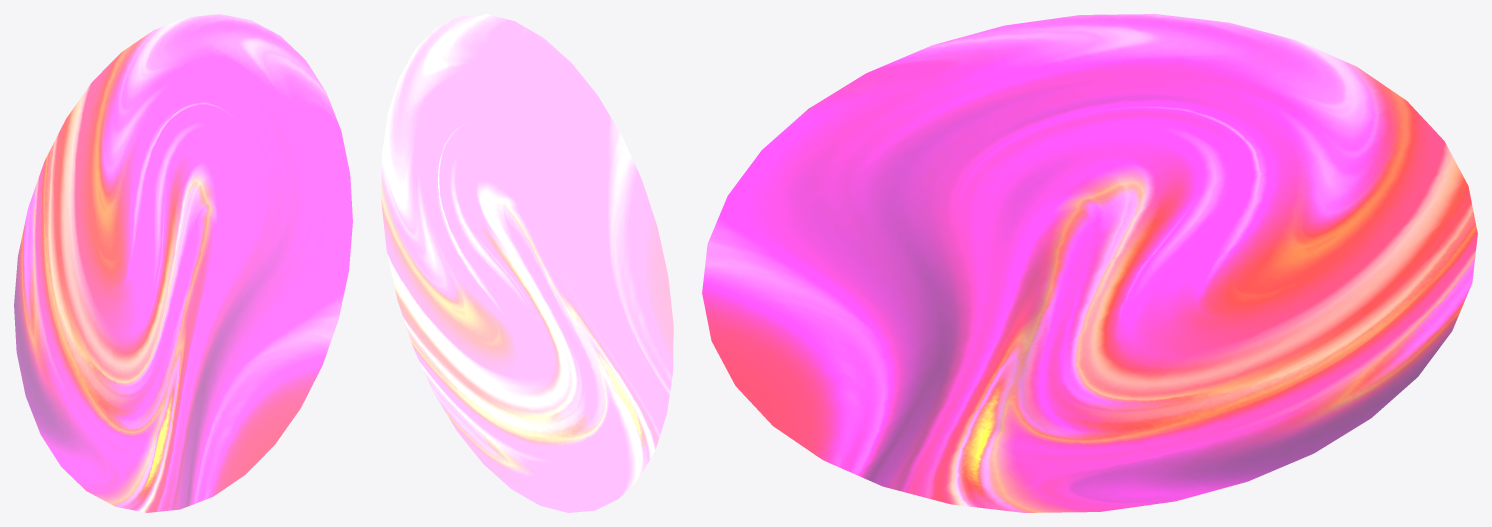
Rendered from Portal.gltf.
The picture shows the model from 3 angles, left to right: view 1: azimuth 30°, elevation 25°; view 2: azimuth 150°, elevation 25°; view 3: azimuth 270°, elevation 25°; orthographic projection. The views are drawn at different scales.
Parts seen in each view (by area): view 1: Portal___Hole; view 2: Portal___Hole; view 3: Portal___Hole.
Part boxes in pixels (bbox=[...]): Portal___Hole: bbox=[14, 14, 352, 512]; Portal___Hole: bbox=[381, 14, 673, 512]; Portal___Hole: bbox=[702, 14, 1477, 512].
Bounding box in the file's own units: 108 × 228 × 251.
